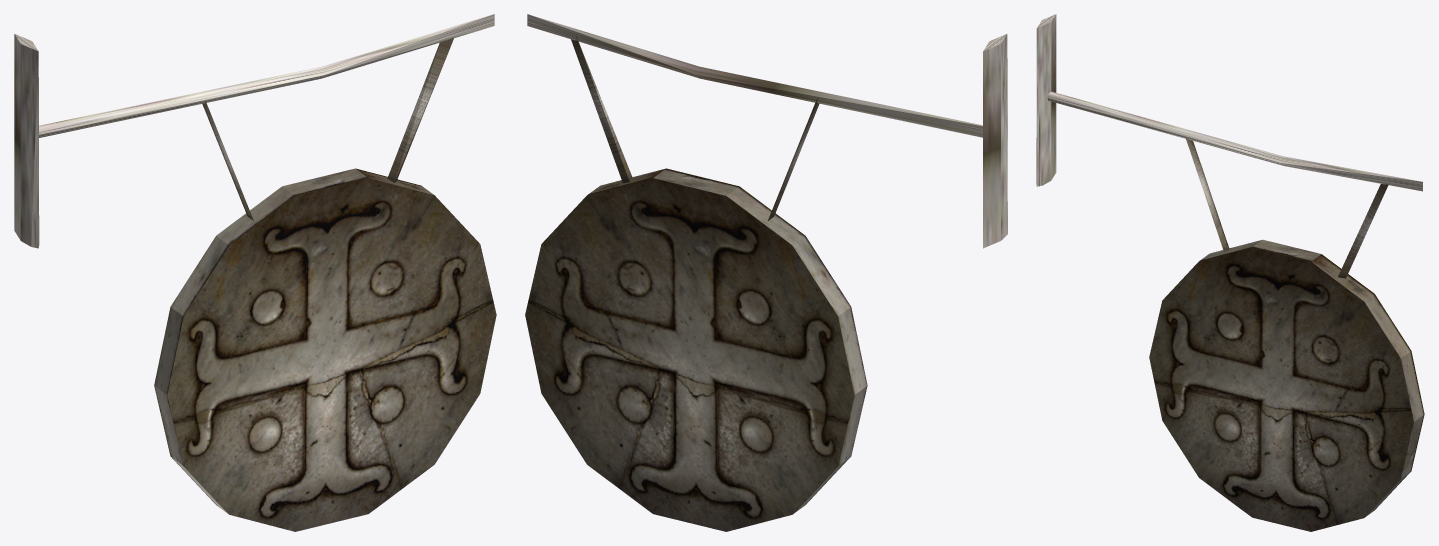
File: tavern_amblem_LOD.dae
3 views of the same model, side by side, from view 1: azimuth 30°, elevation 25°; view 2: azimuth 150°, elevation 25°; view 3: azimuth 330°, elevation 25° (orthographic). The views are drawn at different scales.
Parts seen in each view (by area): view 1: Default_Layer; view 2: Default_Layer; view 3: Default_Layer.
Part boxes in pixels (left/top/right/bottom): Default_Layer: left=14, top=14, right=496, bottom=531; Default_Layer: left=525, top=14, right=1007, bottom=531; Default_Layer: left=1036, top=14, right=1424, bottom=531.
Bounding box in the file's own units: 2.88 × 3.18 × 0.2572.
